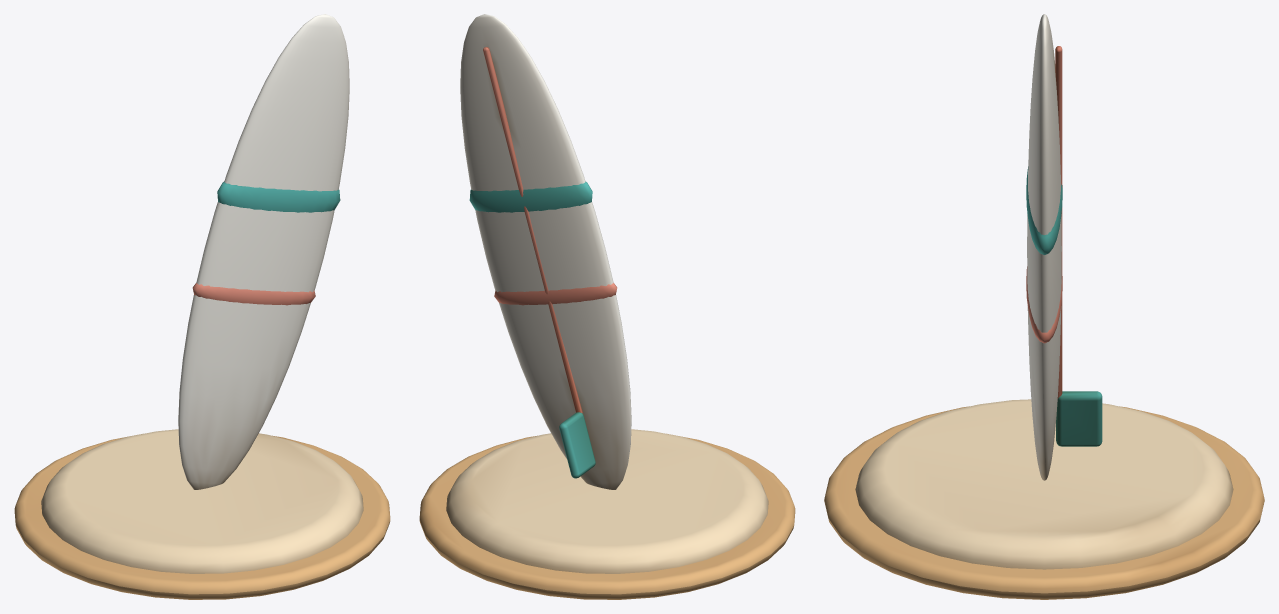
The model's file is prop_surfboard.glb.
The picture shows the model from 3 angles, left to right: view 1: azimuth 30°, elevation 25°; view 2: azimuth 150°, elevation 25°; view 3: azimuth 270°, elevation 25°; orthographic projection. The views are drawn at different scales.
Parts seen in each view (by area): view 1: board, mound, mound_base, stripe_a, stripe_b; view 2: board, mound, mound_base, stripe_a, stringer, stripe_b, fin; view 3: mound, mound_base, board, fin, stringer, stripe_a.
Part boxes in pixels (x1,y1,x2,y2): board: (178,14,349,489); mound: (41,429,363,573); mound_base: (14,434,390,599); stripe_a: (217,181,340,212); stripe_b: (192,283,315,305); board: (460,14,631,489); mound: (446,429,768,573); mound_base: (419,434,795,599); stripe_a: (469,181,592,212); stringer: (483,47,582,413); stripe_b: (494,283,617,305); fin: (559,412,595,478); mound: (855,399,1233,569); mound_base: (824,406,1264,599); board: (1027,14,1061,480); fin: (1056,391,1102,446); stringer: (1055,46,1062,398); stripe_a: (1026,166,1062,254).
Size of what is drawn, in the model's own units: 1.9 by 2.67 by 1.9.
